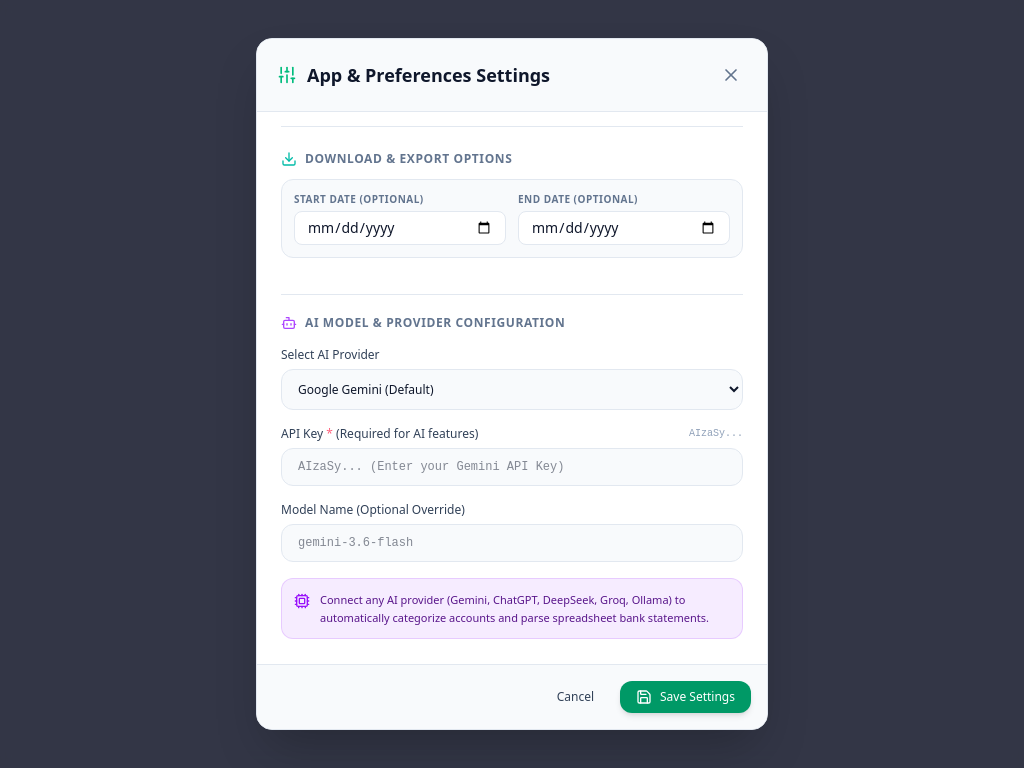
Scenario: SettingsModal › allows selecting AI Provider and saving configuration to localStorage
This screenshot has width=1024, height=768.
(page scrolled)
Select "OpenAI (ChatGPT / GPT-4o)" in the dropdown. click: (512, 389)
box: x1=281 y1=369 x2=743 y2=410
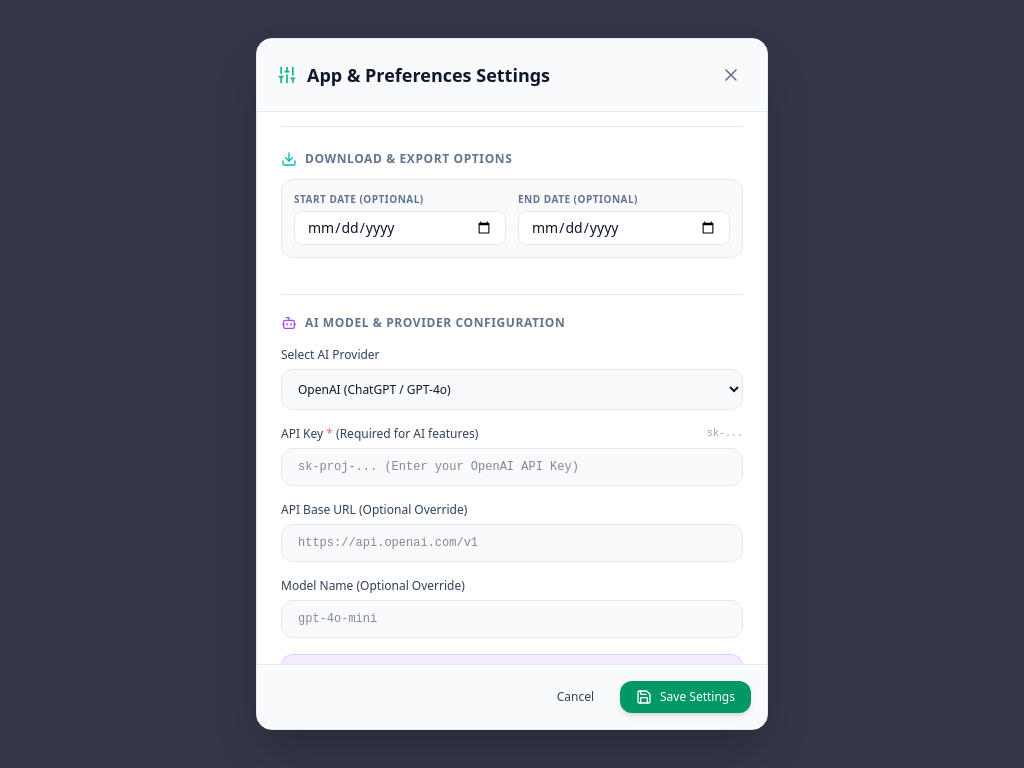
Type "test-openai-key-123" into the password field with placeholder "sk-proj-... (Enter your OpenAI API Key)". click: (512, 467)
box: x1=281 y1=448 x2=743 y2=486
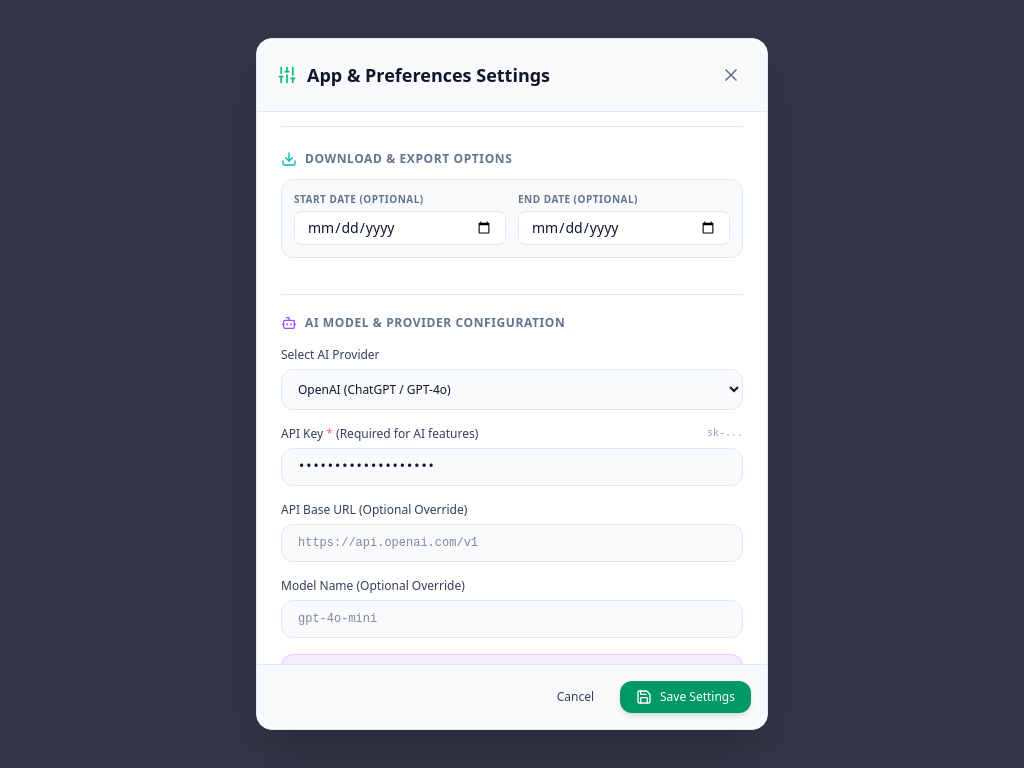
Type "gpt-4o-custom" into the field with placeholder "gpt-4o-mini". click: (512, 619)
box: x1=281 y1=600 x2=743 y2=638
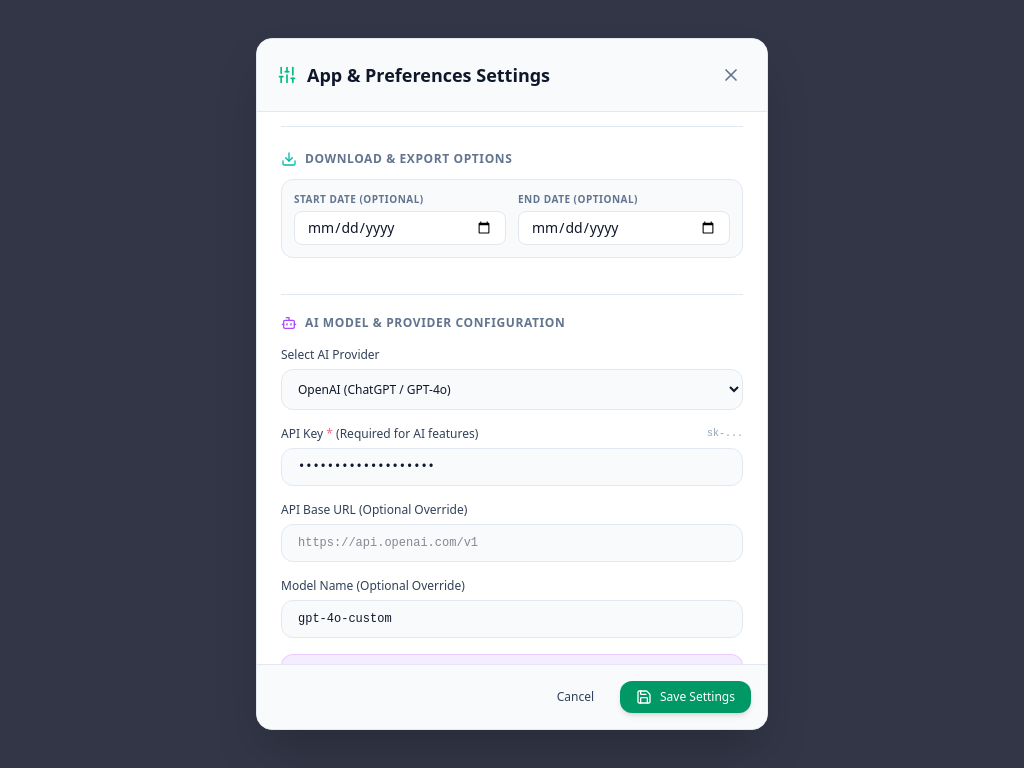
Click the button "Save Settings". click: click(686, 697)
box: x1=620 y1=681 x2=751 y2=713
Wait 1000 ms
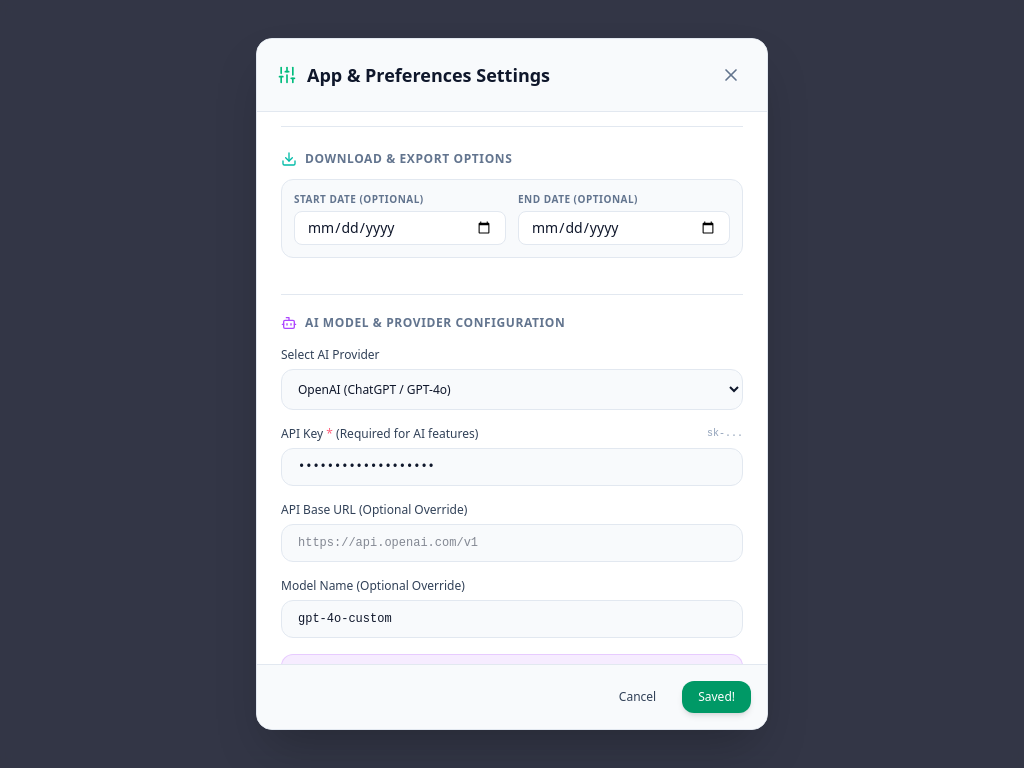
Expected: the button "Saved!" is shown, x1=682 y1=681 x2=751 y2=713
